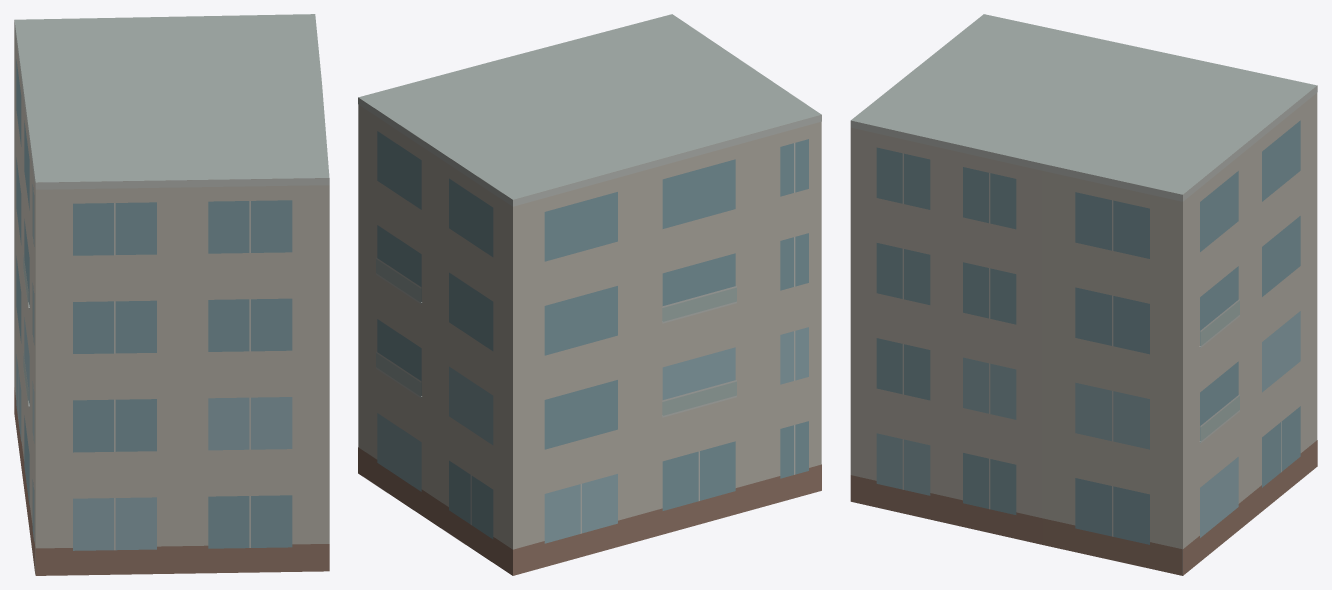
File: survey-upis-32727971.glb
3 views of the same model, side by side, from view 1: azimuth 30°, elevation 25°; view 2: azimuth 150°, elevation 25°; view 3: azimuth 270°, elevation 25° (orthographic). The views are drawn at different scales.
Visible parts, largest first — view 1: survey-upis-32727971.tmp; view 2: survey-upis-32727971.tmp; view 3: survey-upis-32727971.tmp.
Boxes of the visible parts, box(x1,y1,x2,y2) form: survey-upis-32727971.tmp: box(14, 14, 329, 575); survey-upis-32727971.tmp: box(358, 14, 821, 575); survey-upis-32727971.tmp: box(850, 14, 1317, 575).
Bounding box in the file's own units: 13.44 × 13.2 × 14.66.
